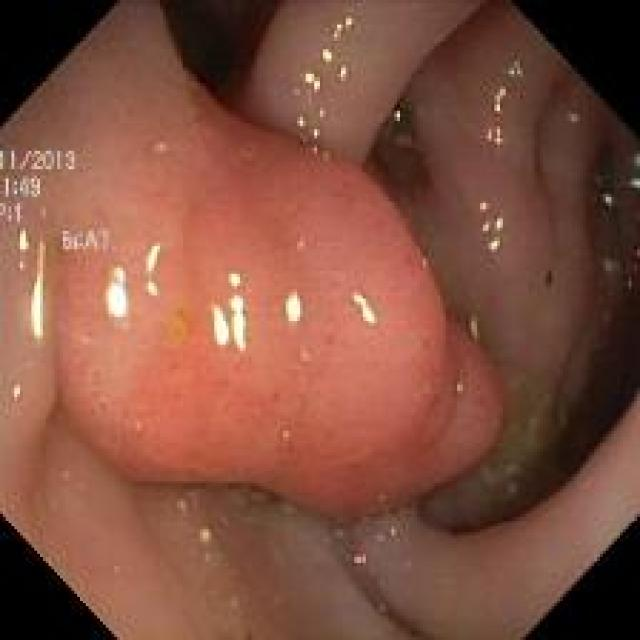Polyps: (21, 5, 504, 519)
